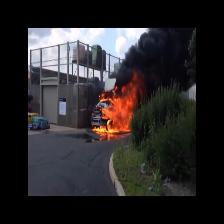fire: (95, 83, 139, 138)
smoke: (142, 26, 197, 85)
